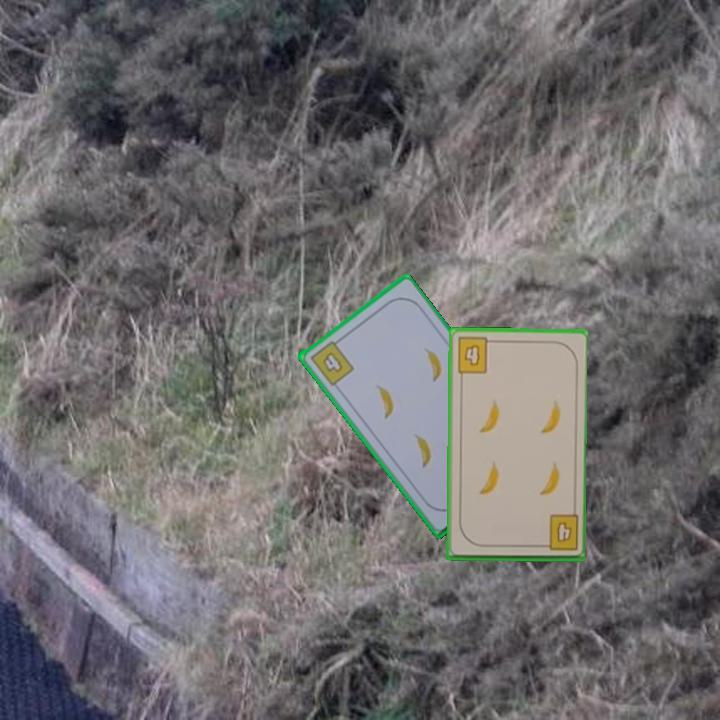4b: (306, 335, 357, 389), (536, 512, 581, 554), (454, 334, 497, 376)
